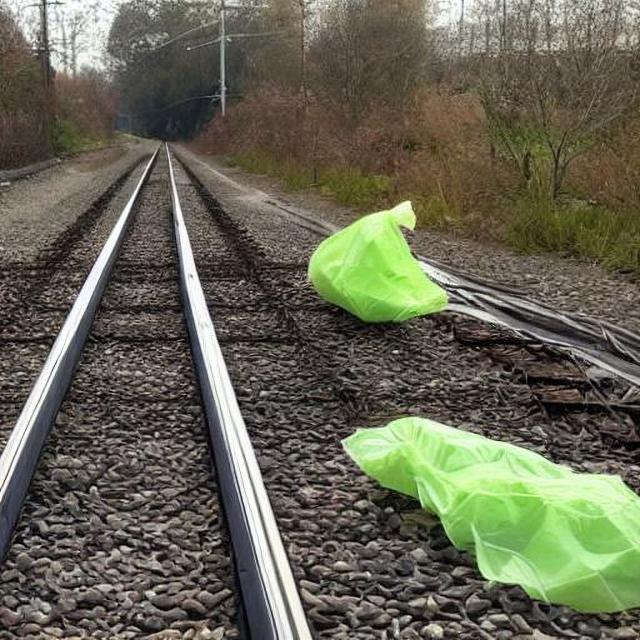floating object: (339, 413, 640, 617)
plastic bag: (304, 200, 448, 320)
